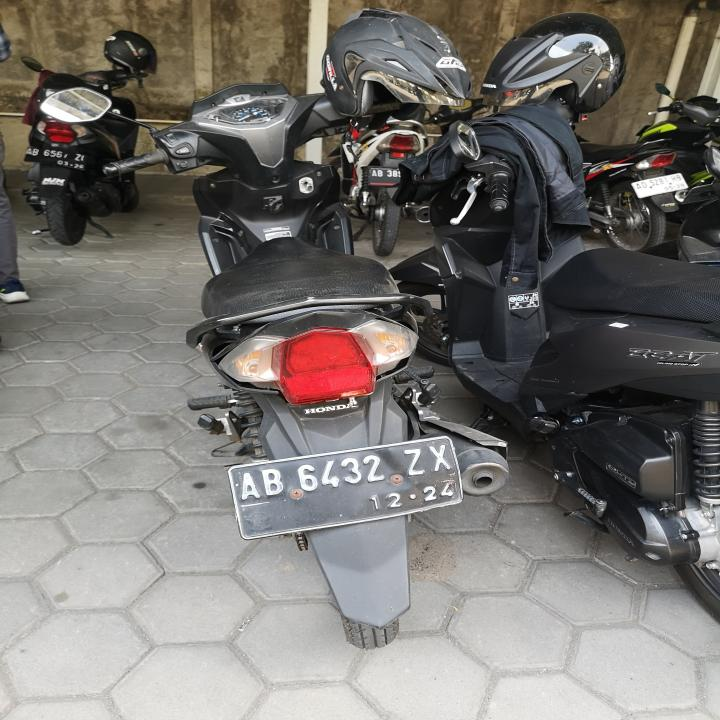plate: (227, 436, 466, 540), (23, 146, 89, 171)
